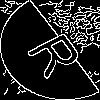R: (24, 25, 94, 81)
